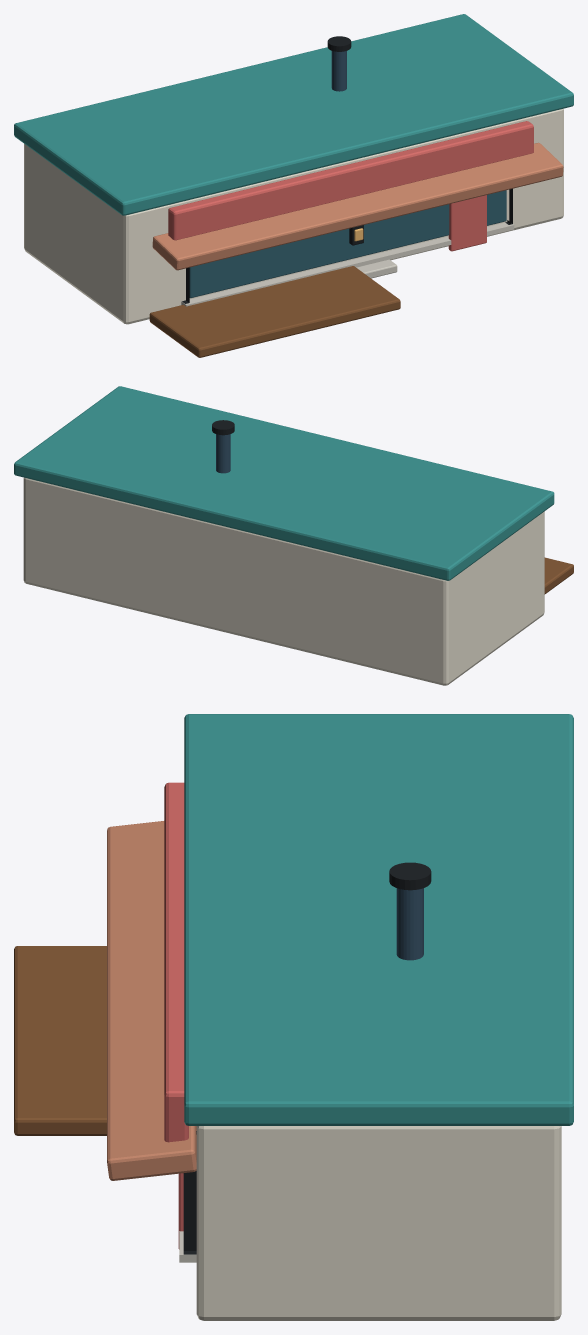
Rendered from COM_LOW_2x1_004.glb.
The picture shows the model from 3 angles, top to bottom: view 1: azimuth 30°, elevation 25°; view 2: azimuth 150°, elevation 25°; view 3: azimuth 270°, elevation 25°; orthographic projection. The views are drawn at different scales.
Visible parts, largest first — view 1: COM_LOW_2x1_004_Visual; view 2: COM_LOW_2x1_004_Visual; view 3: COM_LOW_2x1_004_Visual.
Boxes of the visible parts, <box> form: COM_LOW_2x1_004_Visual: <box>14,14,573,357</box>; COM_LOW_2x1_004_Visual: <box>14,386,573,685</box>; COM_LOW_2x1_004_Visual: <box>14,714,573,1320</box>.
Size of what is drawn, in the model's own units: 3.75 by 1.38 by 2.27.
